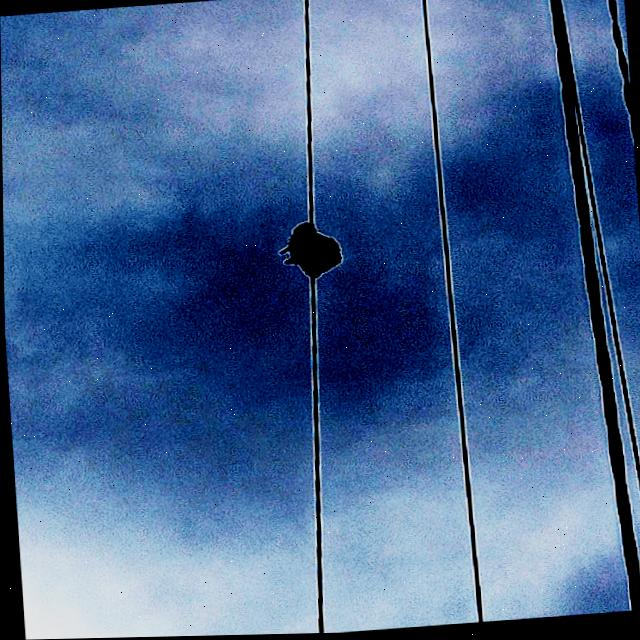obstruction: (276, 218, 352, 288)
wires: (552, 0, 640, 614), (422, 0, 481, 625), (311, 276, 323, 635), (303, 0, 313, 225)
